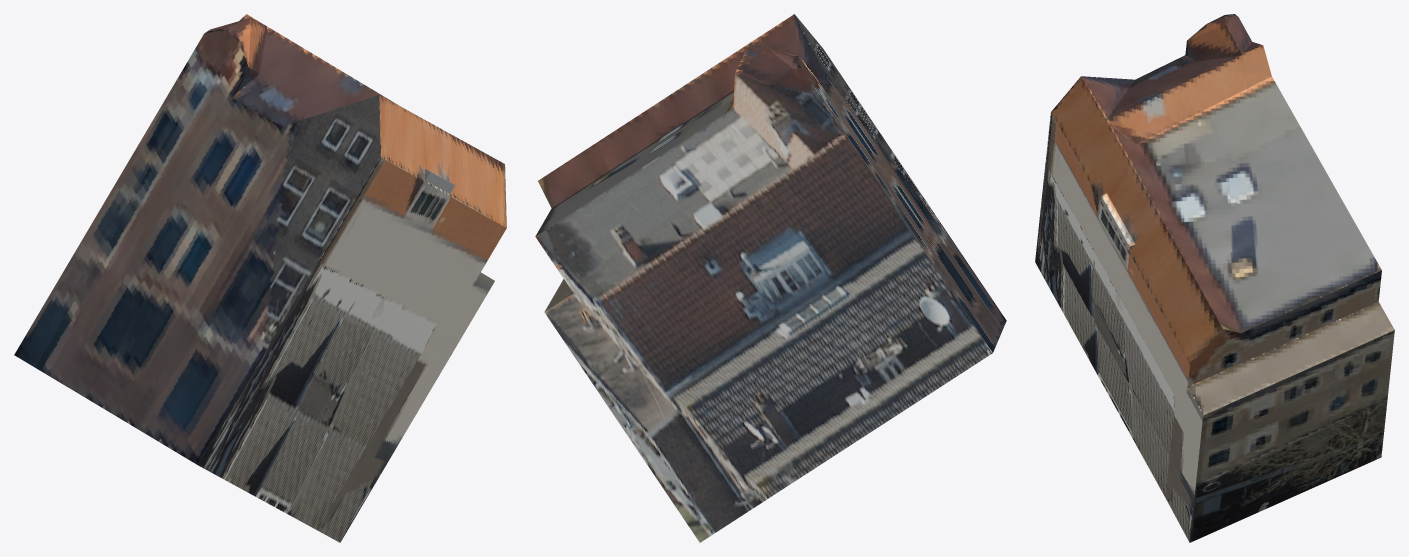
The picture shows the model from 3 angles, left to right: view 1: azimuth 30°, elevation 25°; view 2: azimuth 150°, elevation 25°; view 3: azimuth 270°, elevation 25°; orthographic projection. The views are drawn at different scales.
Parts seen in each view (by area): view 1: BAG_0599100000656921 (×5); view 2: BAG_0599100000656921 (×3); view 3: BAG_0599100000656921 (×5).
Part boxes in pixels (x1=…): BAG_0599100000656921 (×5): x1=14, y1=14, x2=506, y2=542; BAG_0599100000656921 (×3): x1=535, y1=14, x2=1006, y2=542; BAG_0599100000656921 (×5): x1=1035, y1=15, x2=1394, y2=542.
Size of the model in its own units: 22.14 by 22.65 by 15.16.
Materials: 6 (6 with a texture image).
